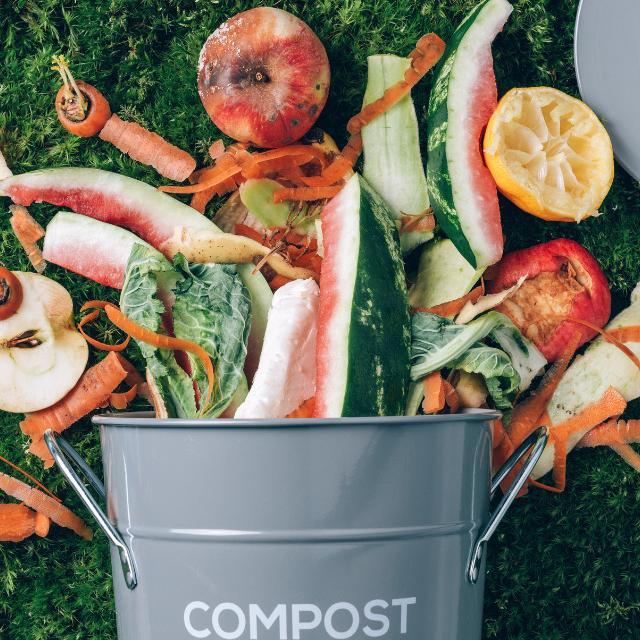food_waste: (20, 138, 271, 316), (293, 178, 449, 395), (401, 0, 529, 263), (42, 48, 225, 197), (0, 211, 110, 414), (193, 0, 334, 147), (485, 77, 607, 225), (533, 261, 640, 426), (482, 222, 605, 343), (353, 52, 428, 182), (0, 428, 65, 554), (0, 238, 29, 326)
